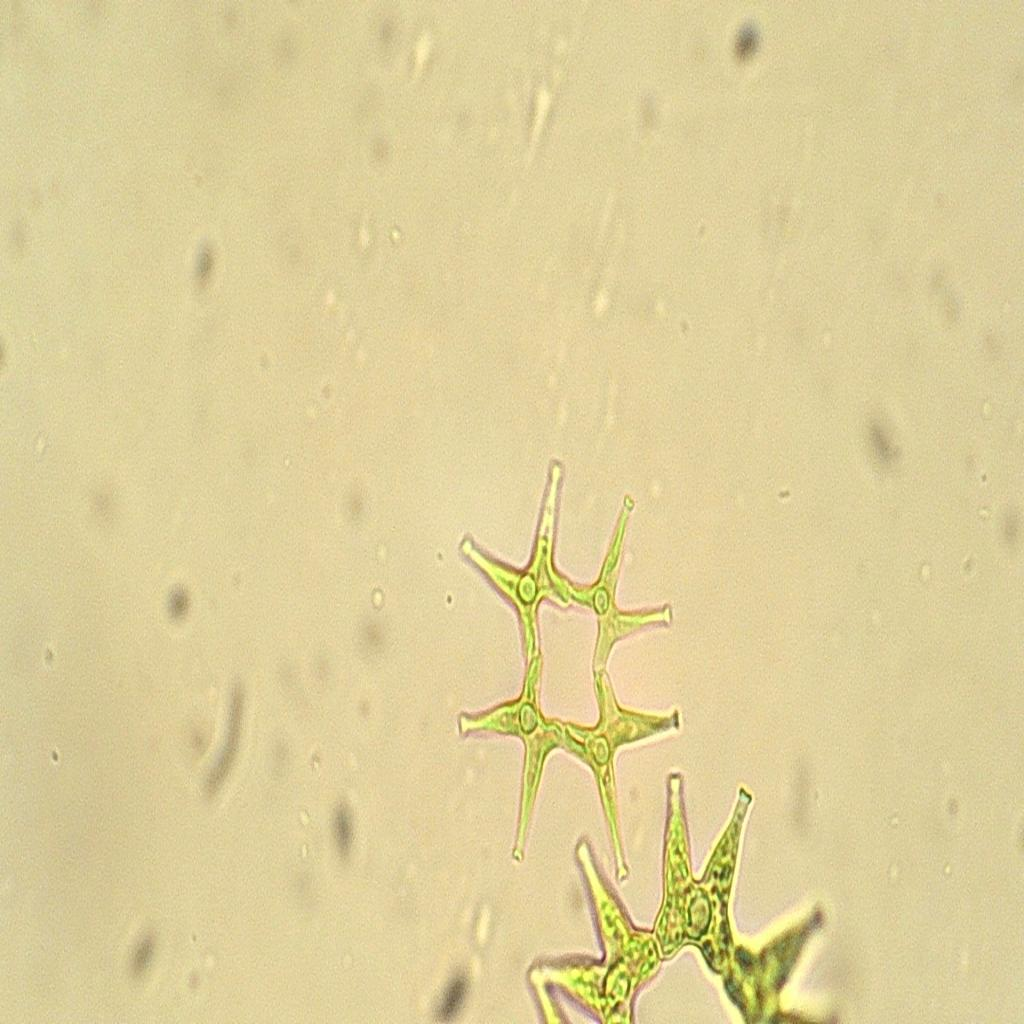Pediastrum_75O: (444, 437, 690, 893)
